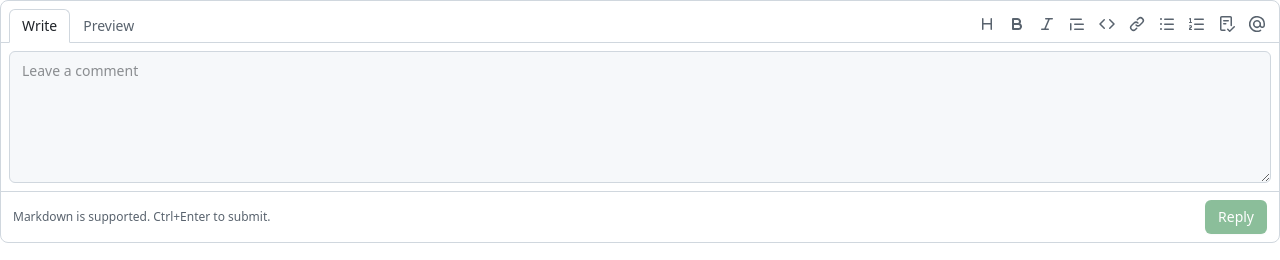
Test: CommentEditor › formatting tools › removes an existing line prefix
This screenshot has width=1280, height=260.
Type "> quoted" into the text box.
click(640, 117); type("> quoted")  # box [9,51,1271,183]
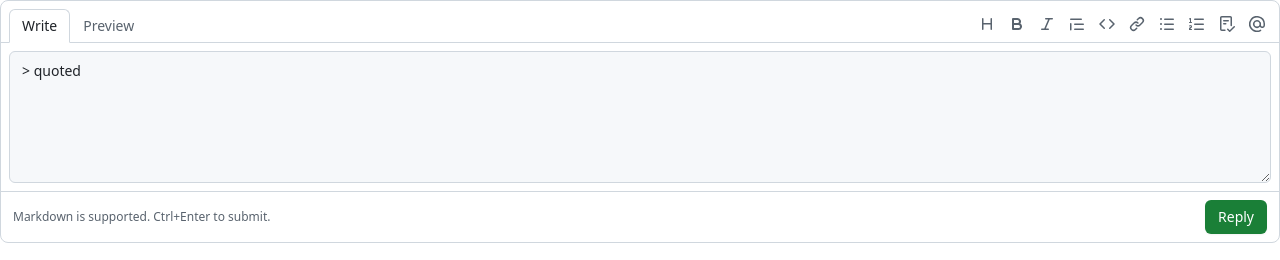
Click the button named "Quote".
click(1077, 24)  # box [1063,10,1091,38]
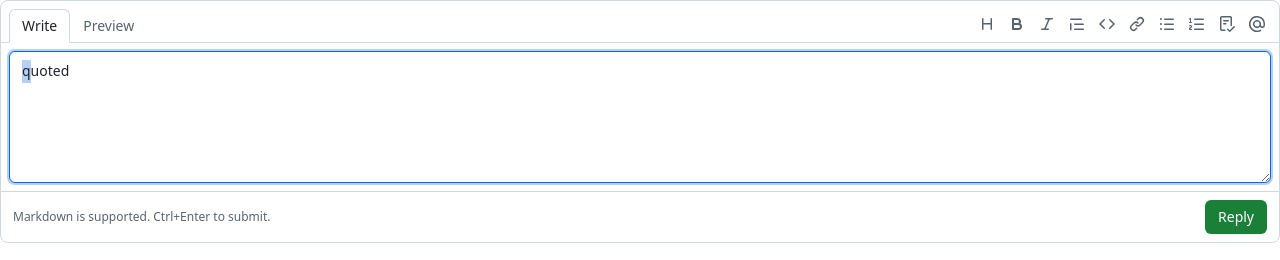
Now the text box holds "quoted", box [9,51,1271,183]
